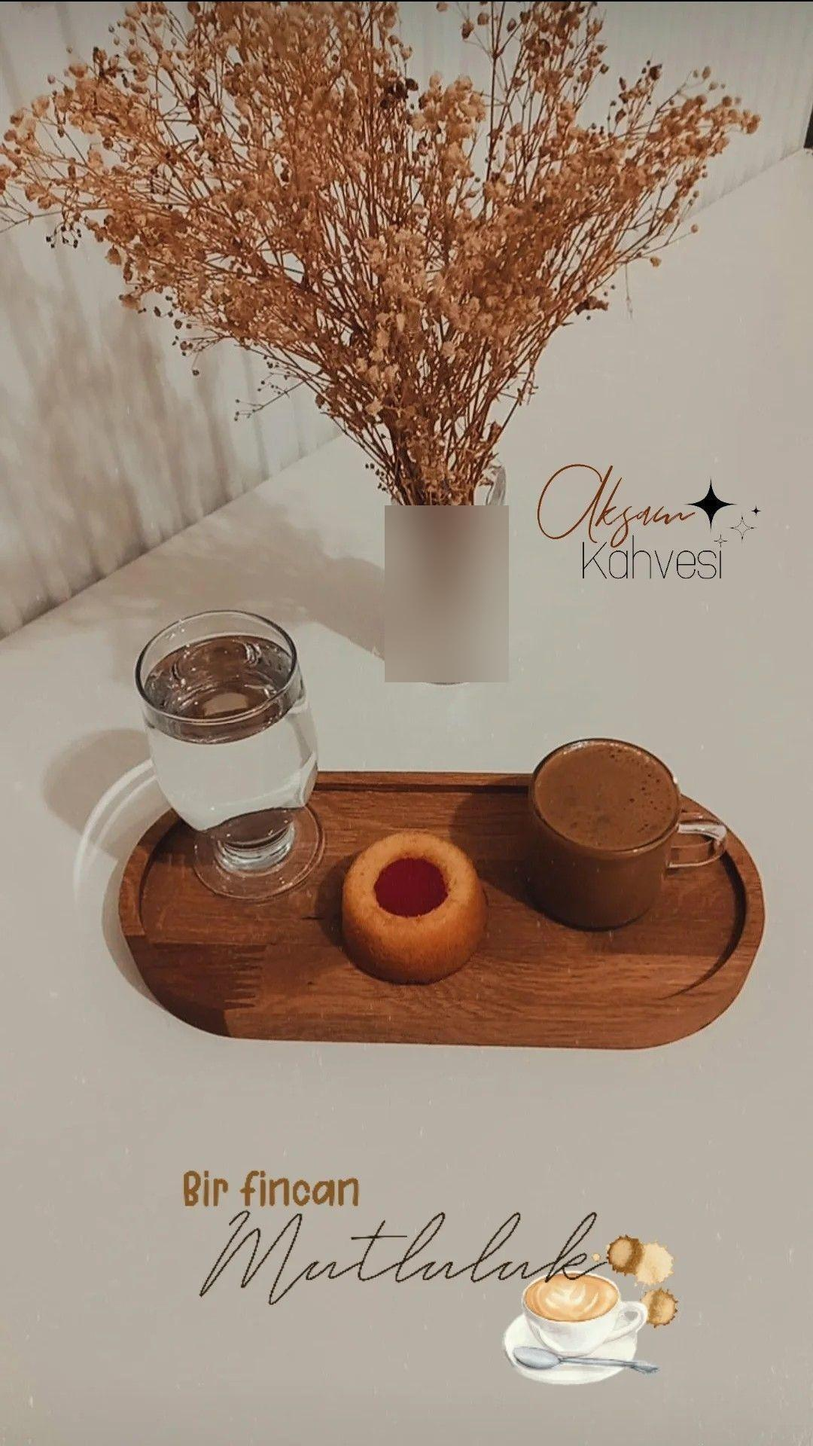cup-handle: (523, 735, 725, 932)
glass-wine: (134, 606, 323, 900)
